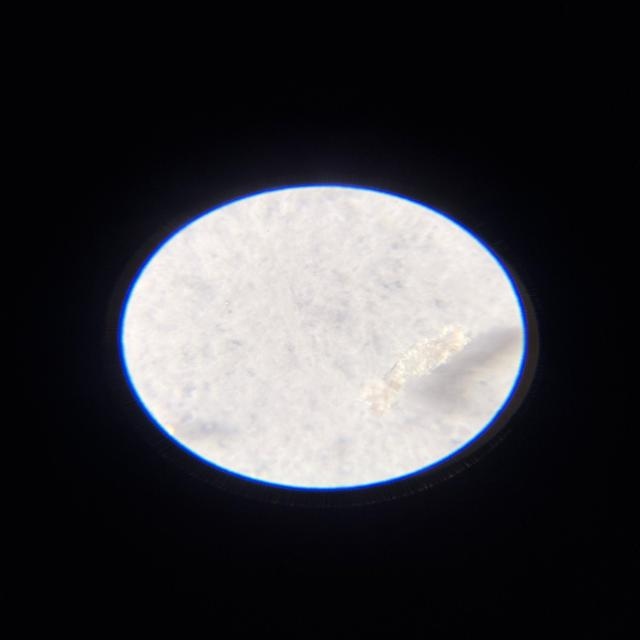microplastic_type_1: (359, 324, 471, 417)
